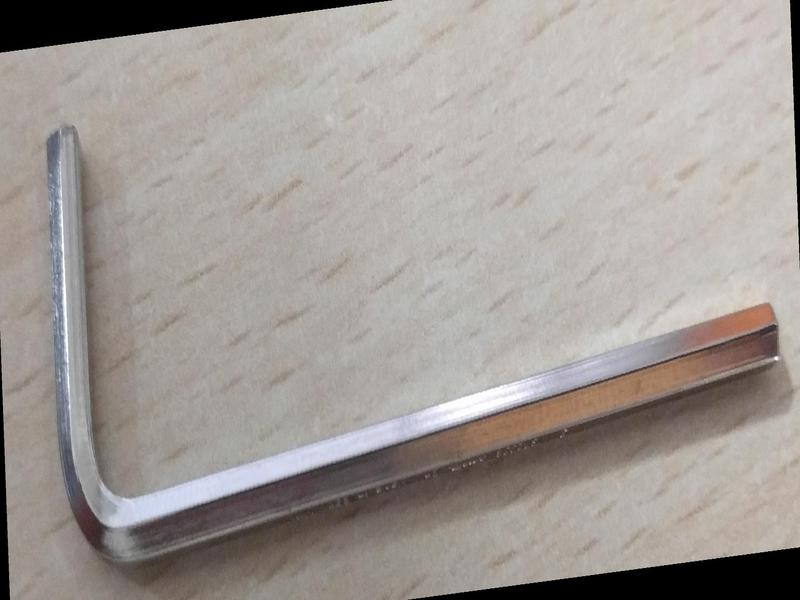turner: (33, 118, 789, 574)
